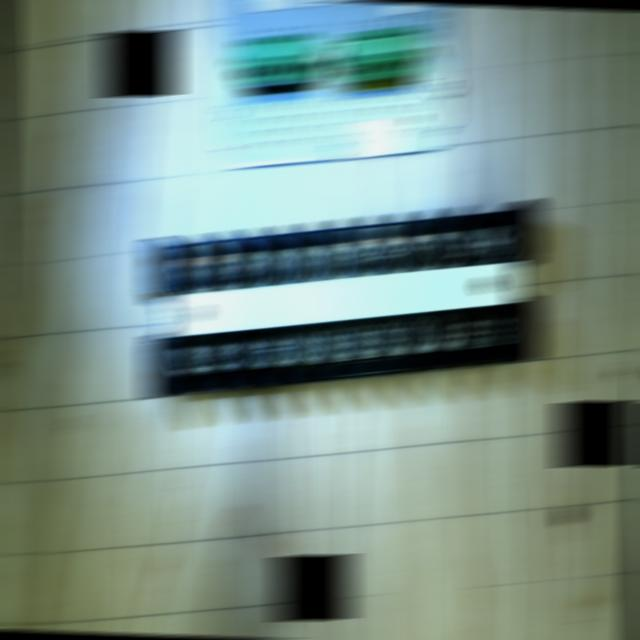Flathead_Block: (131, 201, 554, 395)
Terminal_1: (332, 24, 427, 82), (232, 33, 323, 82)
